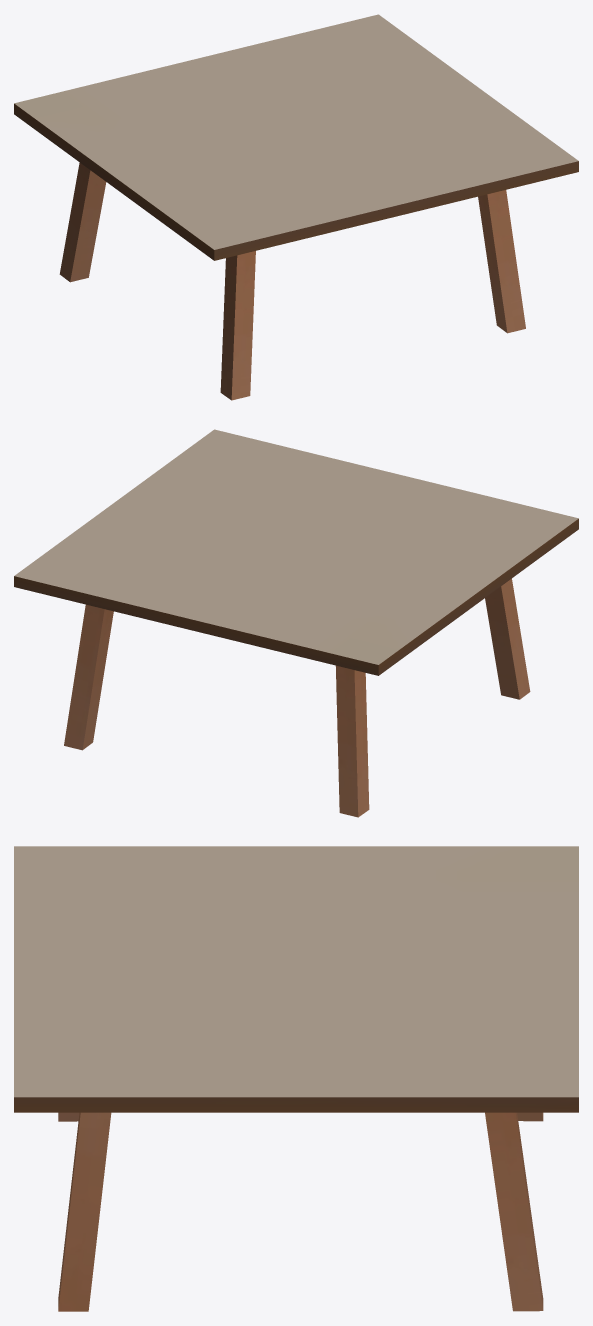
File: Mesa.glb
3 views of the same model, one above another, from view 1: azimuth 30°, elevation 25°; view 2: azimuth 150°, elevation 25°; view 3: azimuth 270°, elevation 25° (orthographic). The views are drawn at different scales.
Visible parts, largest first — view 1: Cube.002; view 2: Cube.002; view 3: Cube.002.
Boxes of the visible parts, bbox=[...] form: Cube.002: bbox=[14, 14, 578, 400]; Cube.002: bbox=[14, 429, 578, 817]; Cube.002: bbox=[14, 846, 578, 1311].
Bounding box in the file's own units: 1.4 × 0.6238 × 1.33.
Materials: 1 (1 with a texture image).
